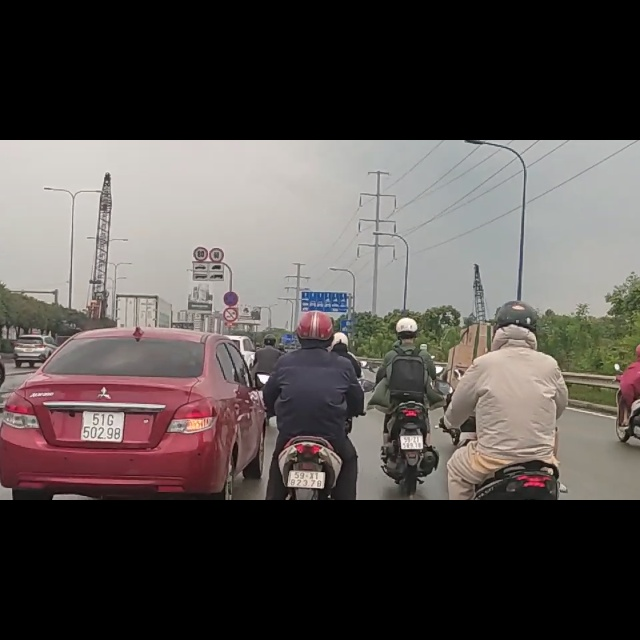bien_cam: (223, 269, 239, 296)
